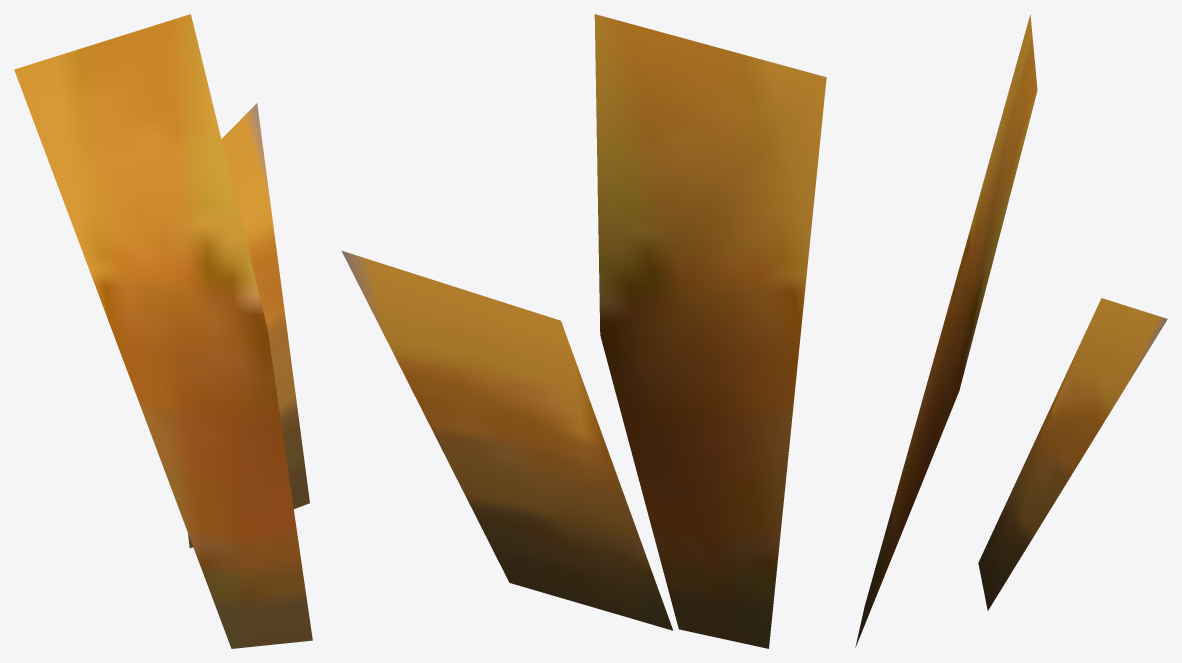
Rendered from fg_grassA.dae.
3 views of the same model, side by side, from view 1: azimuth 30°, elevation 25°; view 2: azimuth 150°, elevation 25°; view 3: azimuth 270°, elevation 25° (orthographic). The views are drawn at different scales.
Parts seen in each view (by area): view 1: fg_grassA; view 2: fg_grassA; view 3: fg_grassA.
Part boxes in pixels (<box>): fg_grassA: <box>14,14,312,648</box>; fg_grassA: <box>341,14,826,648</box>; fg_grassA: <box>855,14,1167,647</box>.
Size of the model in its own units: 11.97 by 20.54 by 10.68.
1 material, 1 textured.
